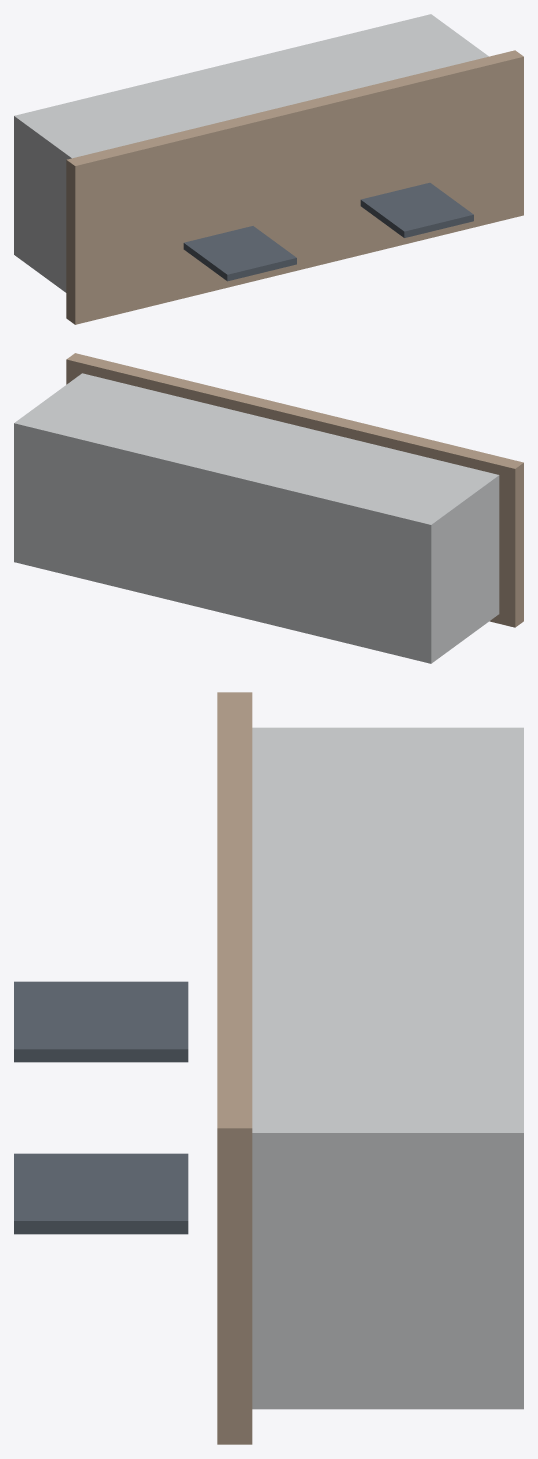
Rendered from nurse_desk.glb.
3 renders of one model, top to bottom at view 1: azimuth 30°, elevation 25°; view 2: azimuth 150°, elevation 25°; view 3: azimuth 270°, elevation 25°, orthographic. The views are drawn at different scales.
Visible parts, largest first — view 1: world; view 2: world; view 3: world.
Part boxes in pixels (x1,y1,x2,y2): world: (14,14,523,324); world: (14,353,523,663); world: (14,692,523,1444).
Size of the model in its own units: 3.55 by 1.2 by 1.75.
